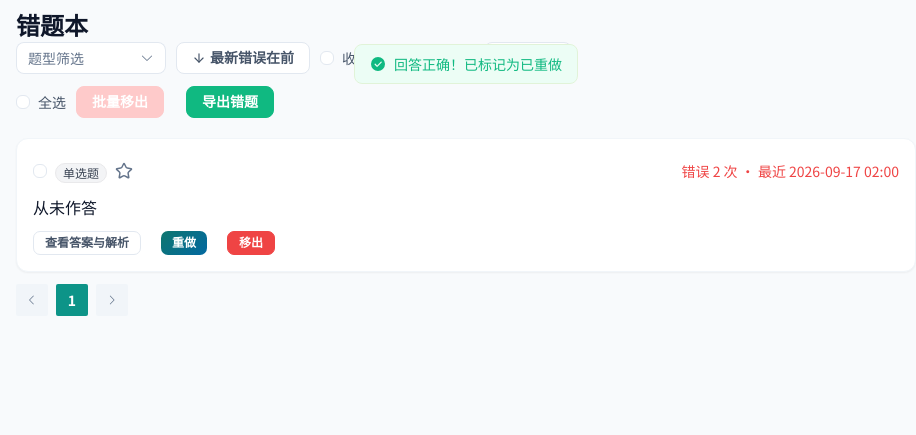
it: WrongQuestions 卡片展示补齐（#1077） › 无作答记录 / 无解析时走空态文案，不渲染空白
Click the button "查看答案与解析": (87, 243) x1=33 y1=231 x2=141 y2=255
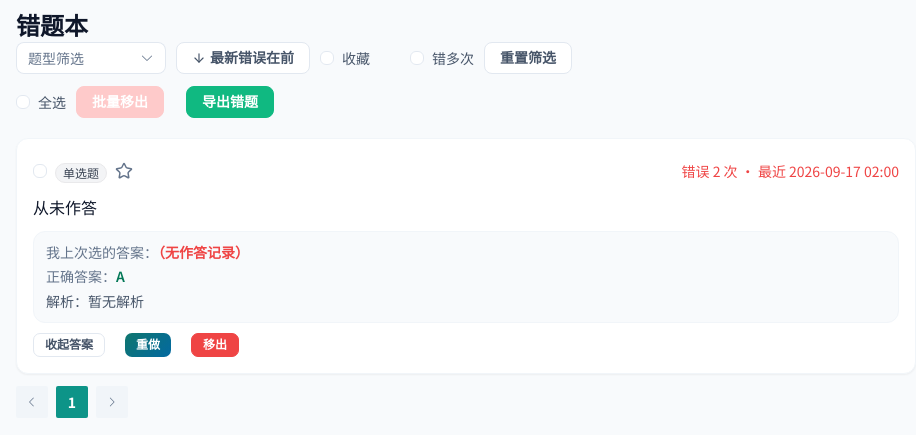
Expected: the text "（无作答记录）" is shown, x1=158 y1=242 x2=249 y2=262
Expected: the text "暂无解析" is shown, x1=46 y1=291 x2=144 y2=311
